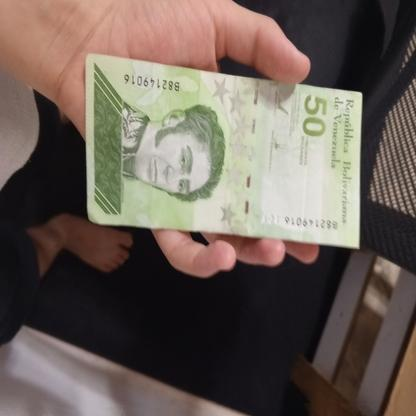fifty-front-vef: (85, 54, 362, 248)
